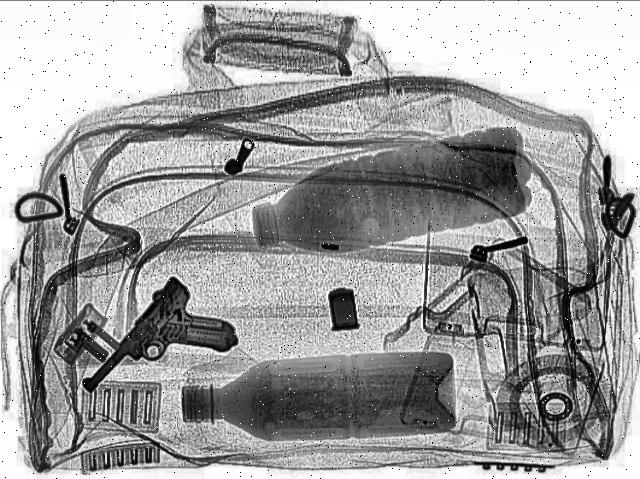Gun: (78, 276, 264, 422)
